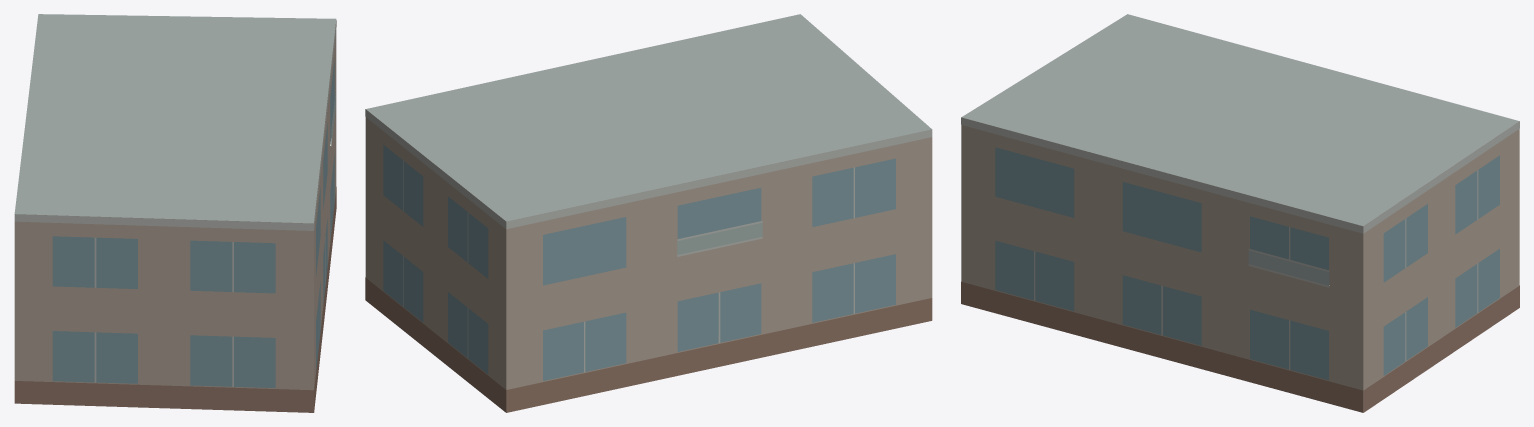
File: survey-upis-32749345.glb
3 views of the same model, side by side, from view 1: azimuth 30°, elevation 25°; view 2: azimuth 150°, elevation 25°; view 3: azimuth 270°, elevation 25° (orthographic). The views are drawn at different scales.
Parts seen in each view (by area): view 1: survey-upis-32749345.tmp; view 2: survey-upis-32749345.tmp; view 3: survey-upis-32749345.tmp.
Part boxes in pixels (x1,y1,x2,y2): survey-upis-32749345.tmp: [14, 14, 336, 412]; survey-upis-32749345.tmp: [365, 14, 932, 412]; survey-upis-32749345.tmp: [961, 14, 1519, 412].
Bounding box in the file's own units: 14.89 × 6.1 × 16.56.
